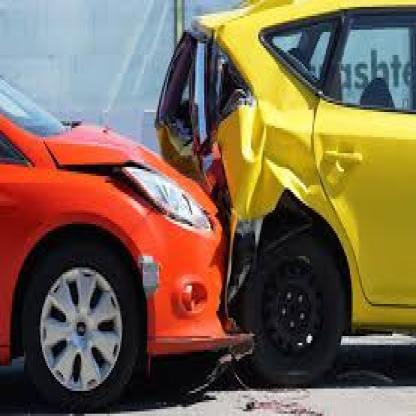accident: (46, 2, 385, 386)
